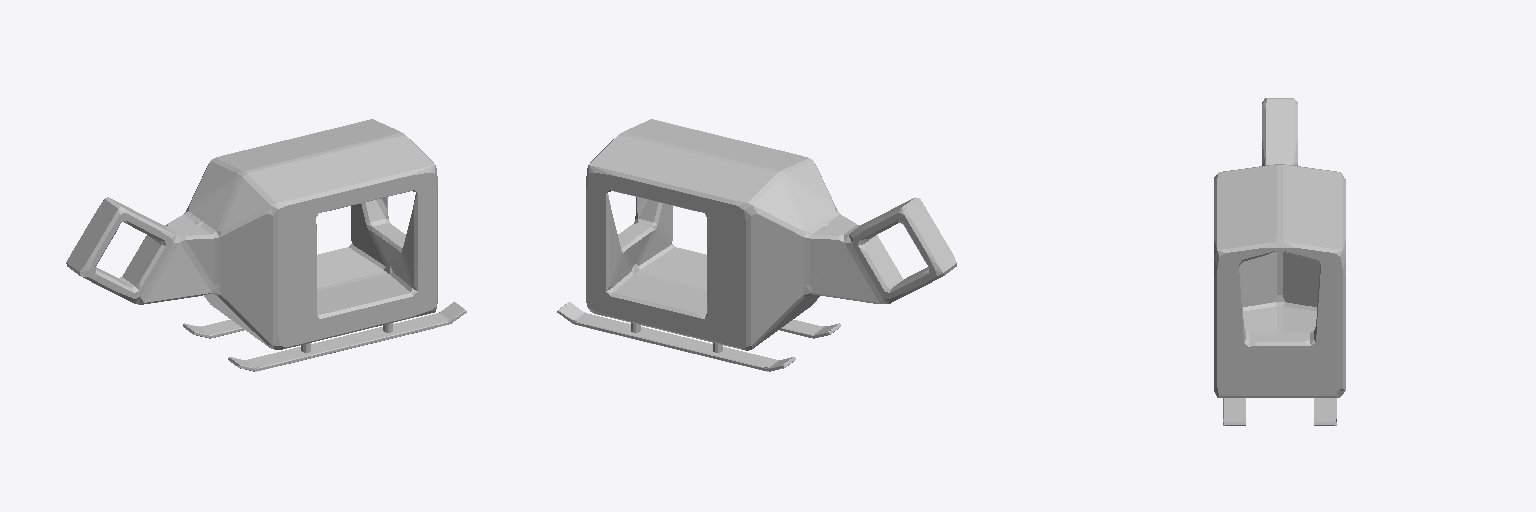
Rendered from helicopter.obj.
3 renders of one model, left to right at view 1: azimuth 30°, elevation 25°; view 2: azimuth 150°, elevation 25°; view 3: azimuth 270°, elevation 25°, orthographic.
Visible parts, largest first — view 1: Cube, Cylinder; view 2: Cube, Cylinder; view 3: Cube, Cylinder.
Boxes of the visible parts, x1,y1,x2,y2 form: Cube: [66, 119, 437, 349]; Cylinder: [183, 302, 466, 371]; Cube: [586, 119, 956, 350]; Cylinder: [557, 302, 840, 371]; Cube: [1214, 98, 1345, 397]; Cylinder: [1223, 398, 1336, 425].
Bounding box in the file's own units: 10.71 × 4.95 × 3.33.